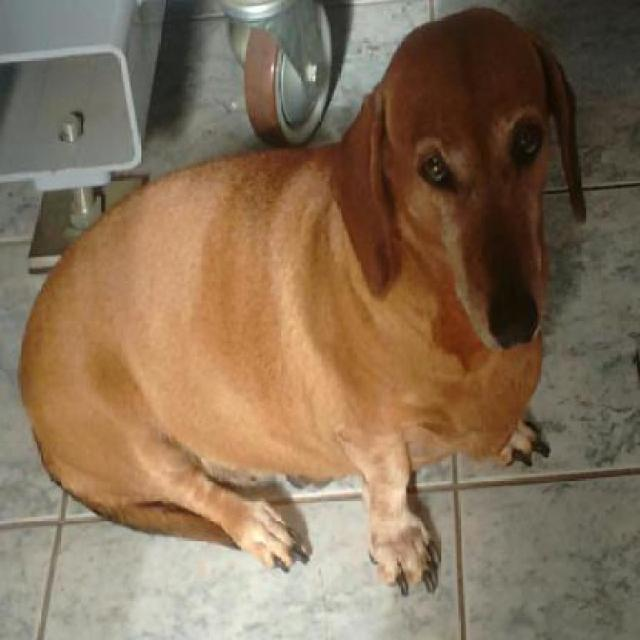Dog: (15, 4, 591, 598)
